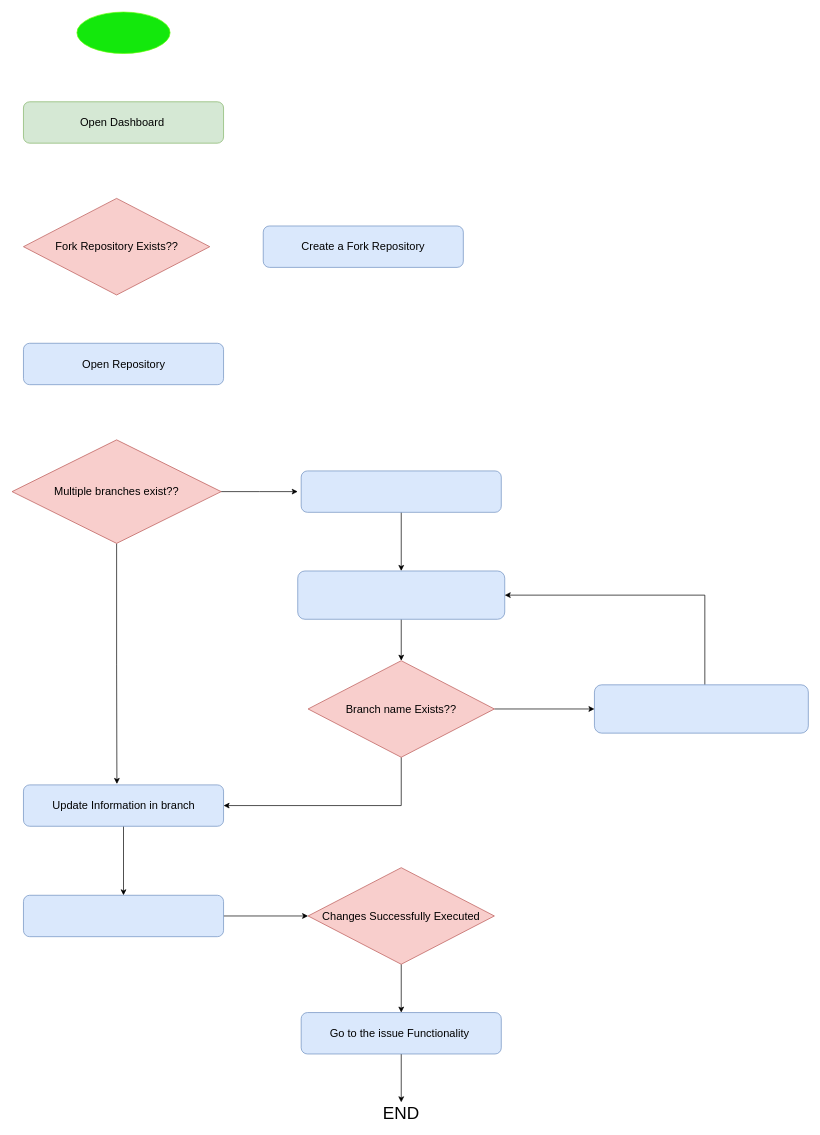
Image size: 820x1135. Some labels were removed from this diagram. The box of each missing label's shape, as (x1, y1, x2, y2) in pixels:
Commit the Possible Changes: (23, 895, 224, 937)
Create a branch with main: (300, 470, 501, 512)
Name the branch: (297, 570, 505, 619)
Name the branch Accordingly: (594, 684, 808, 733)
START: (76, 11, 170, 53)
